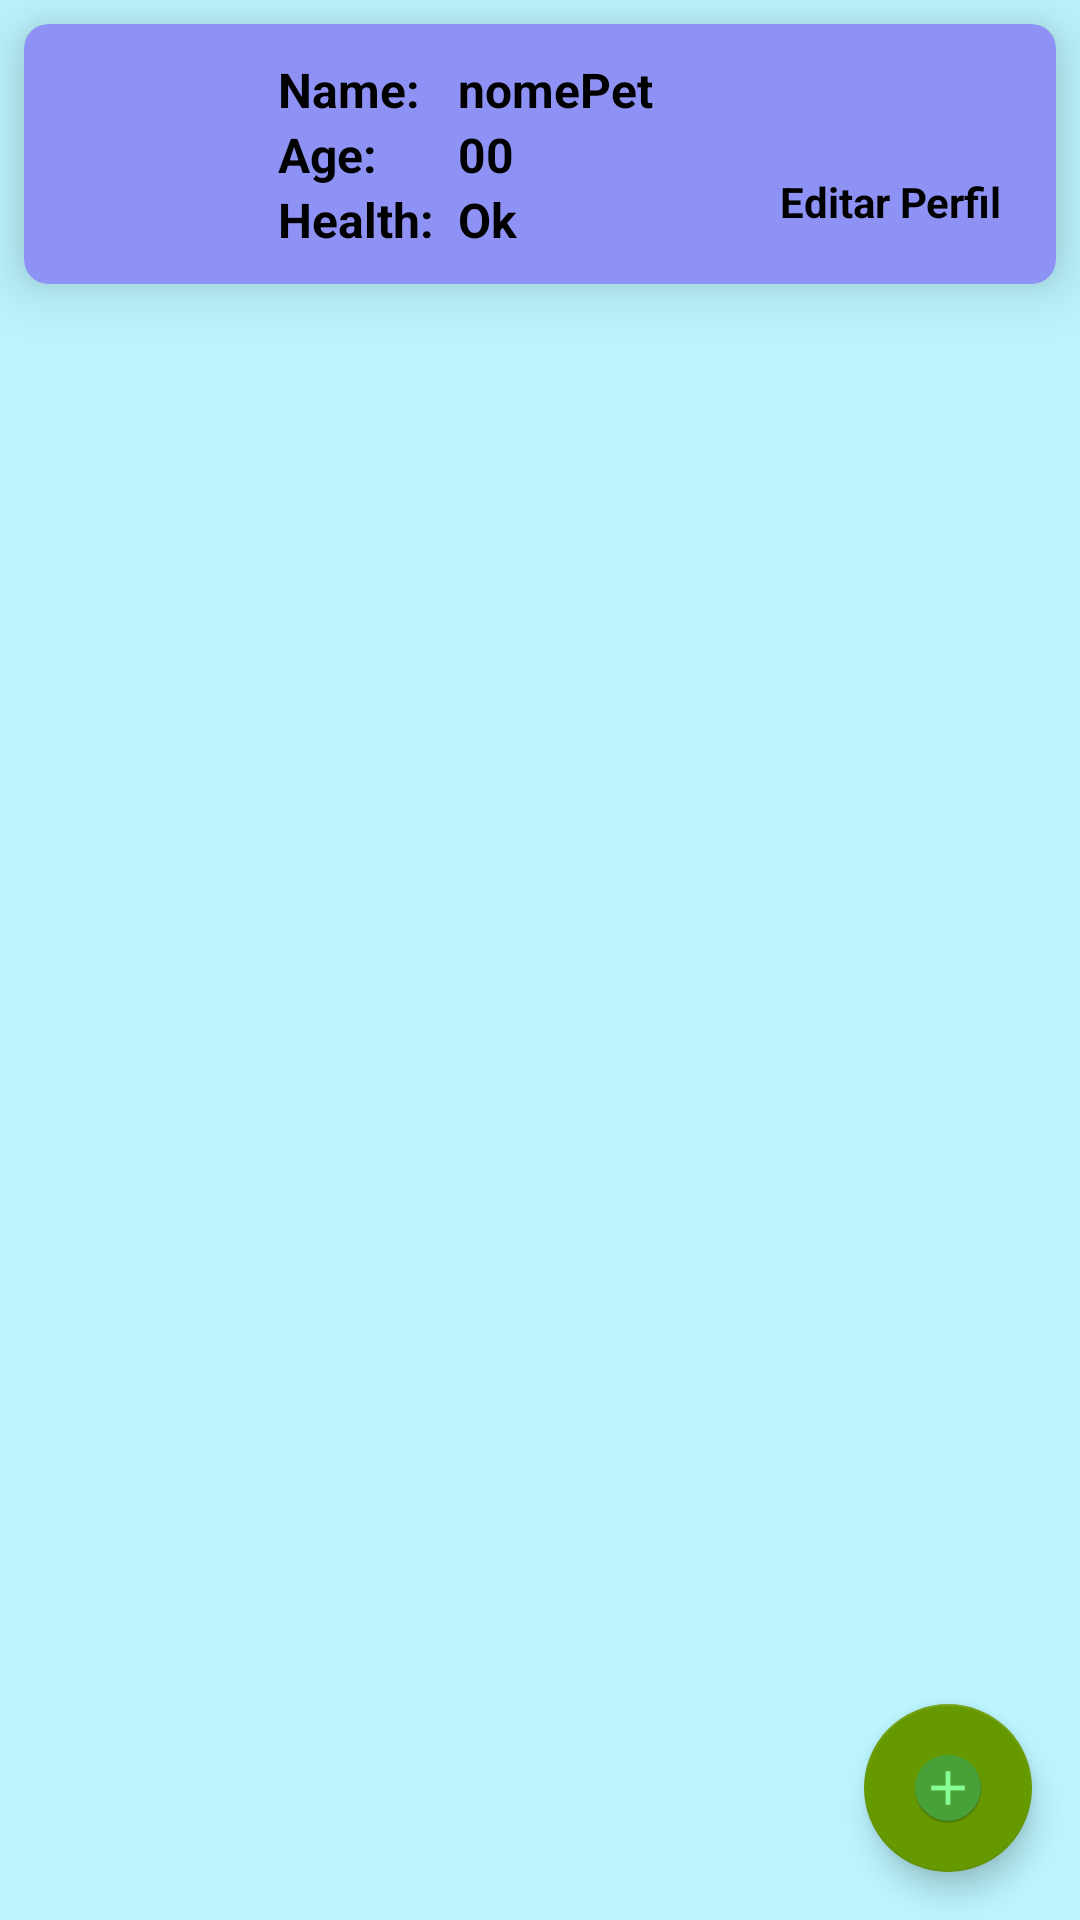

Where icons sit on this 1080×1920 app screen, as Rect(x1, y1, x2, y2):
add round: Rect(864, 1704, 1032, 1872)
